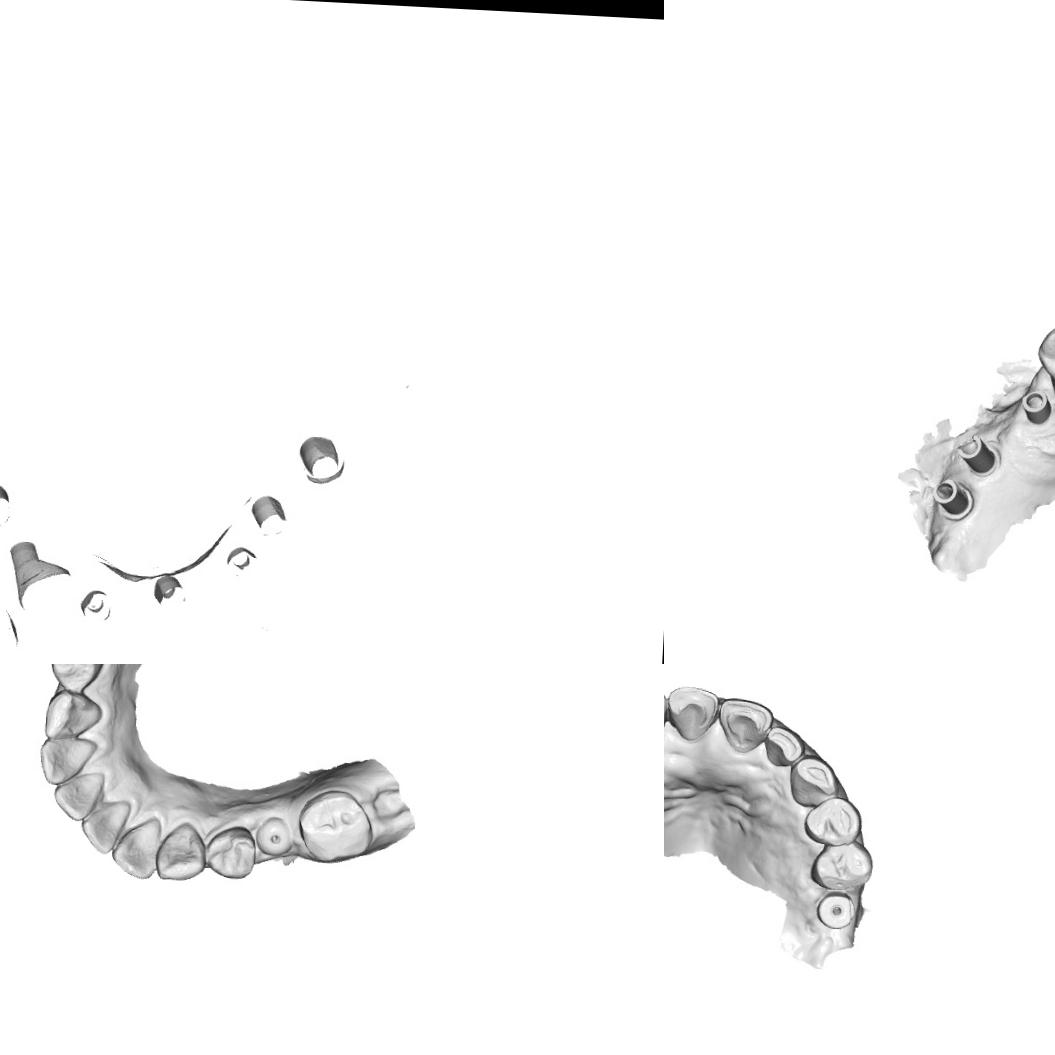canine: (153, 818, 208, 884), (42, 687, 104, 741), (786, 754, 840, 810), (1034, 321, 1055, 393)
implant: (928, 475, 976, 521), (952, 432, 1000, 478), (253, 815, 294, 858), (814, 890, 858, 930), (1018, 386, 1052, 426)
incisor: (108, 814, 162, 880), (716, 695, 774, 756), (664, 681, 719, 742), (78, 796, 132, 856), (51, 766, 106, 823), (36, 736, 98, 786), (762, 724, 804, 769)
molar: (294, 787, 376, 873)
premolar: (806, 838, 874, 892), (800, 793, 864, 846), (202, 821, 258, 881), (46, 664, 106, 692)
